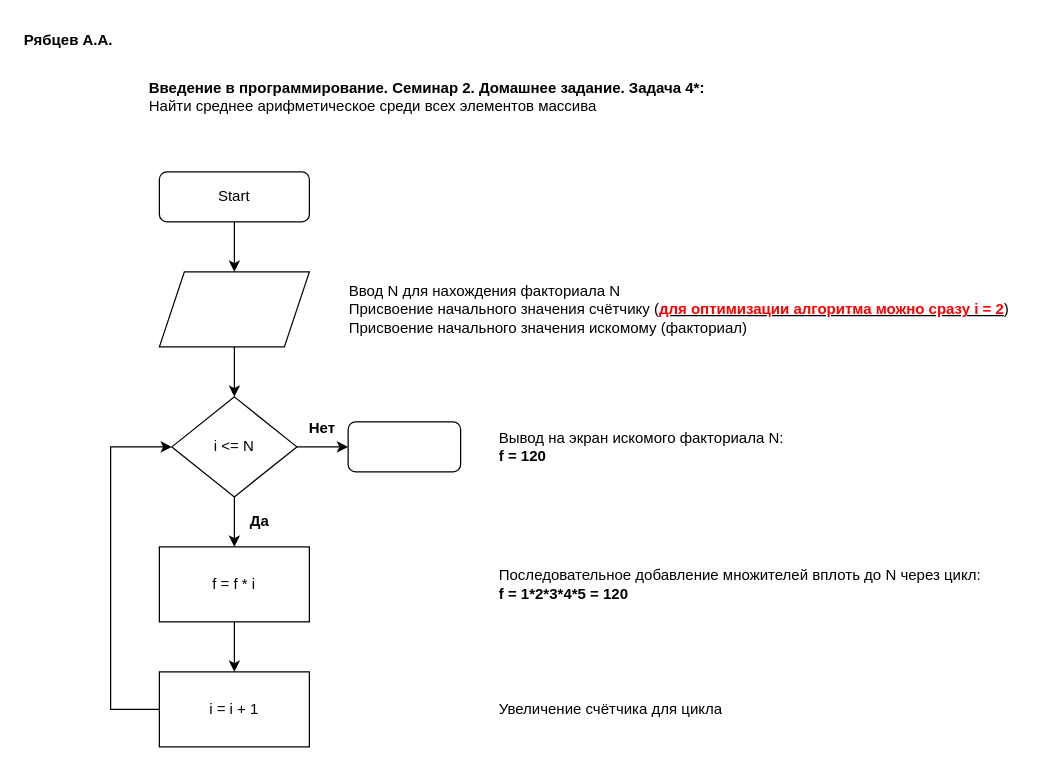
The diagram is 1055 pixels wide and 769 high, and some of its shapes have lost their labels. Here are the shapes that lost their labels. From the top down, the centre of each, then its label:
the point at 233,309: N = 5 i = 1 f = 1
the point at 404,446: print (f)
